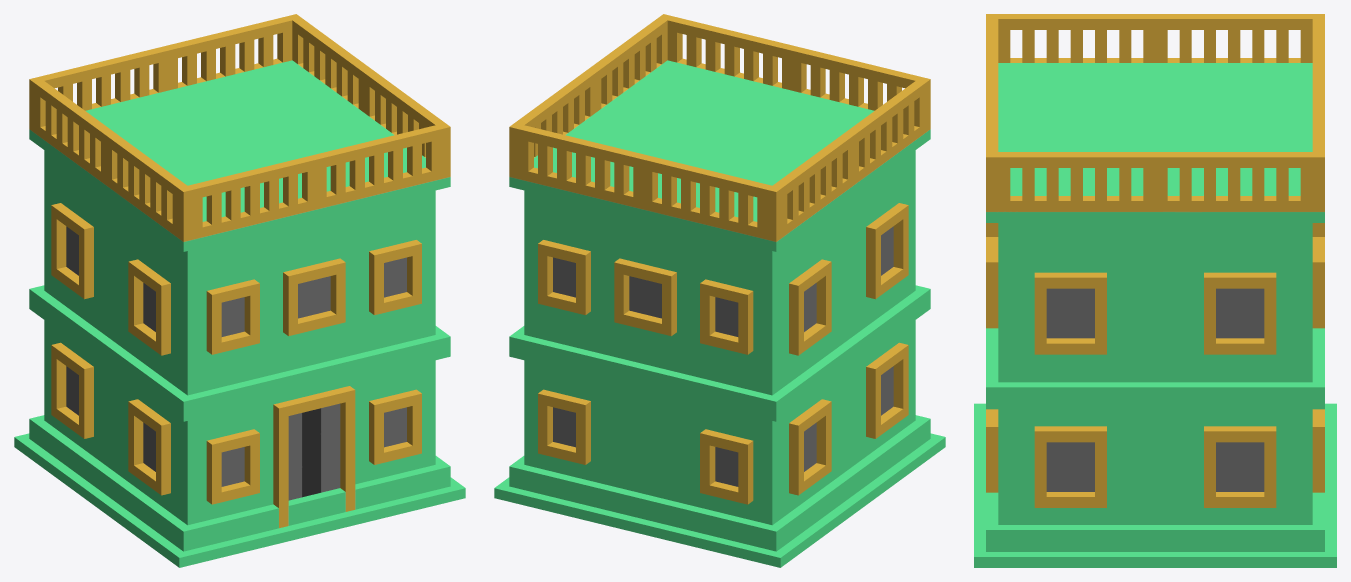
Rendered from Building_2.fbx.
3 renders of one model, left to right at view 1: azimuth 30°, elevation 25°; view 2: azimuth 150°, elevation 25°; view 3: azimuth 270°, elevation 25°, orthographic. The views are drawn at different scales.
Visible parts, largest first — view 1: Building_2; view 2: Building_2; view 3: Building_2.
Part boxes in pixels (x1=…): Building_2: x1=14, y1=14, x2=465, y2=567; Building_2: x1=494, y1=14, x2=945, y2=567; Building_2: x1=974, y1=14, x2=1336, y2=567.
Size of the model in its own units: 30 by 37 by 30.
1 material, 1 textured.
